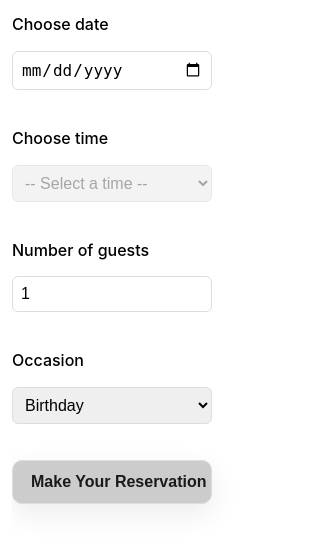
Test: BookingForm - validation › keeps the submit button disabled if time is not selected
Type "2025-08-20" into the date field labelled "Choose date".
click(112, 70); type("2025-08-20")  # box [12, 51, 212, 90]
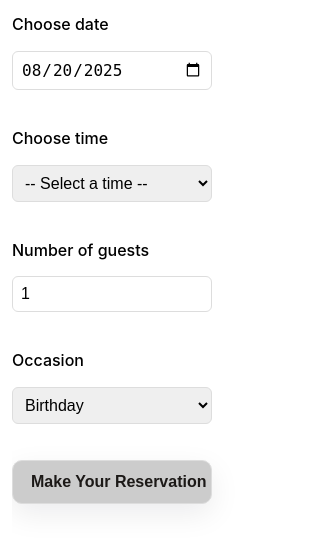
Type "3" into the number field labelled "Number of guests".
click(112, 294); type("3")  # box [12, 276, 212, 312]
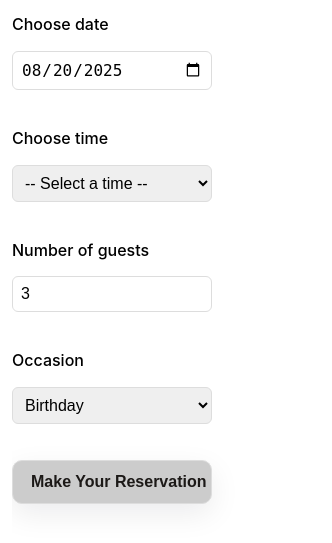
expect the button "Make Your Reservation" is disabled: met, box [12, 460, 212, 504]
Leave the dropdown labelled "Choose time", box [12, 165, 212, 202]
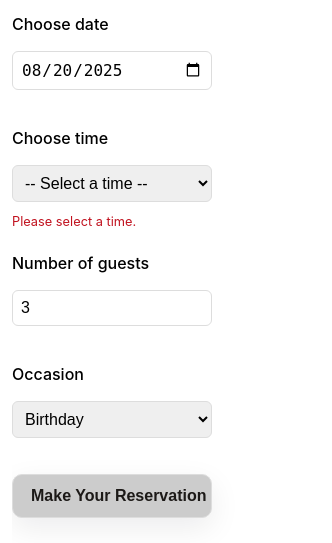
expect the text "Please select a time." is shown: met, box [12, 214, 136, 229]
